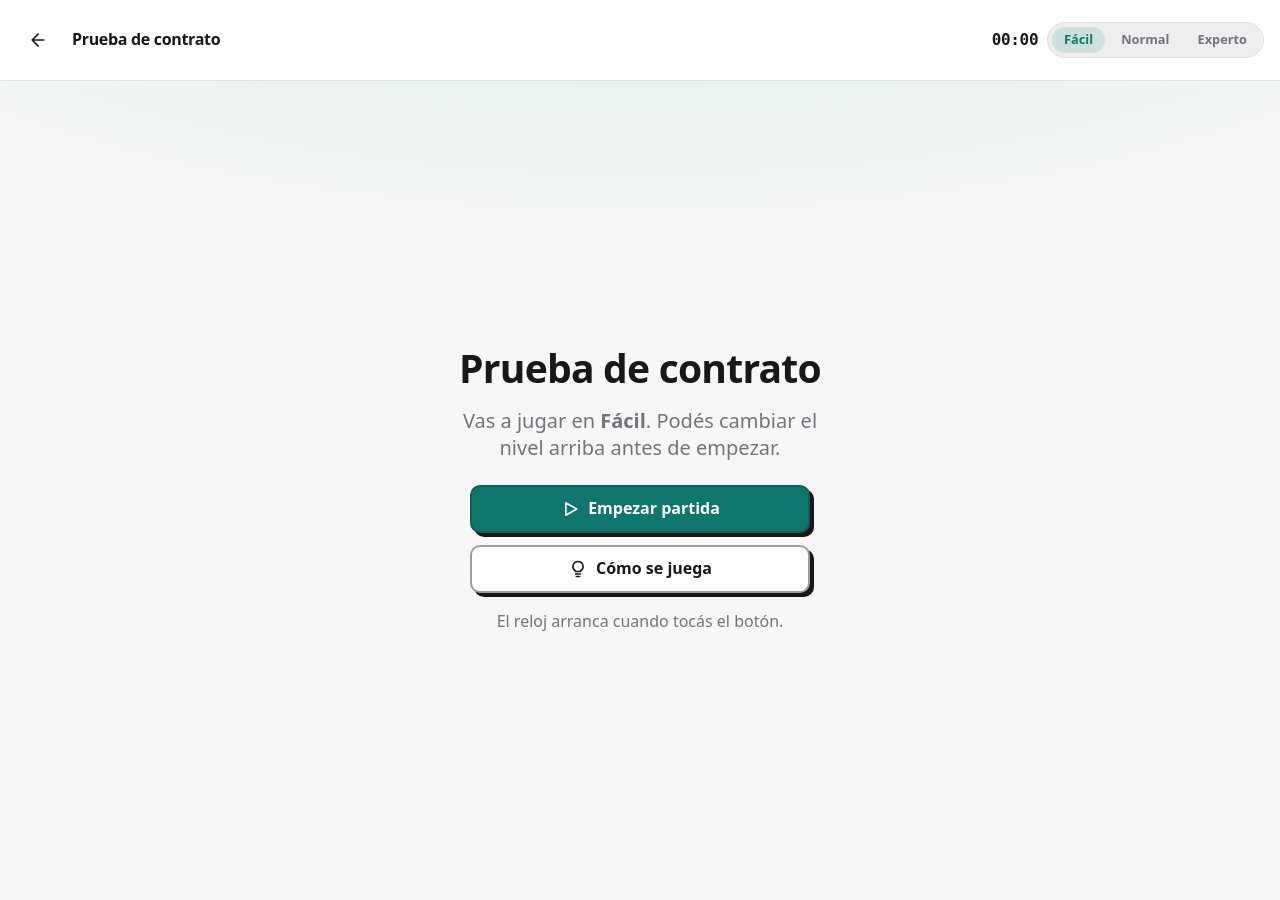
Test: changing difficulty › keeps the board when the player backs out
Click the button "Empezar partida" at [640, 509], box [470, 485, 810, 533]
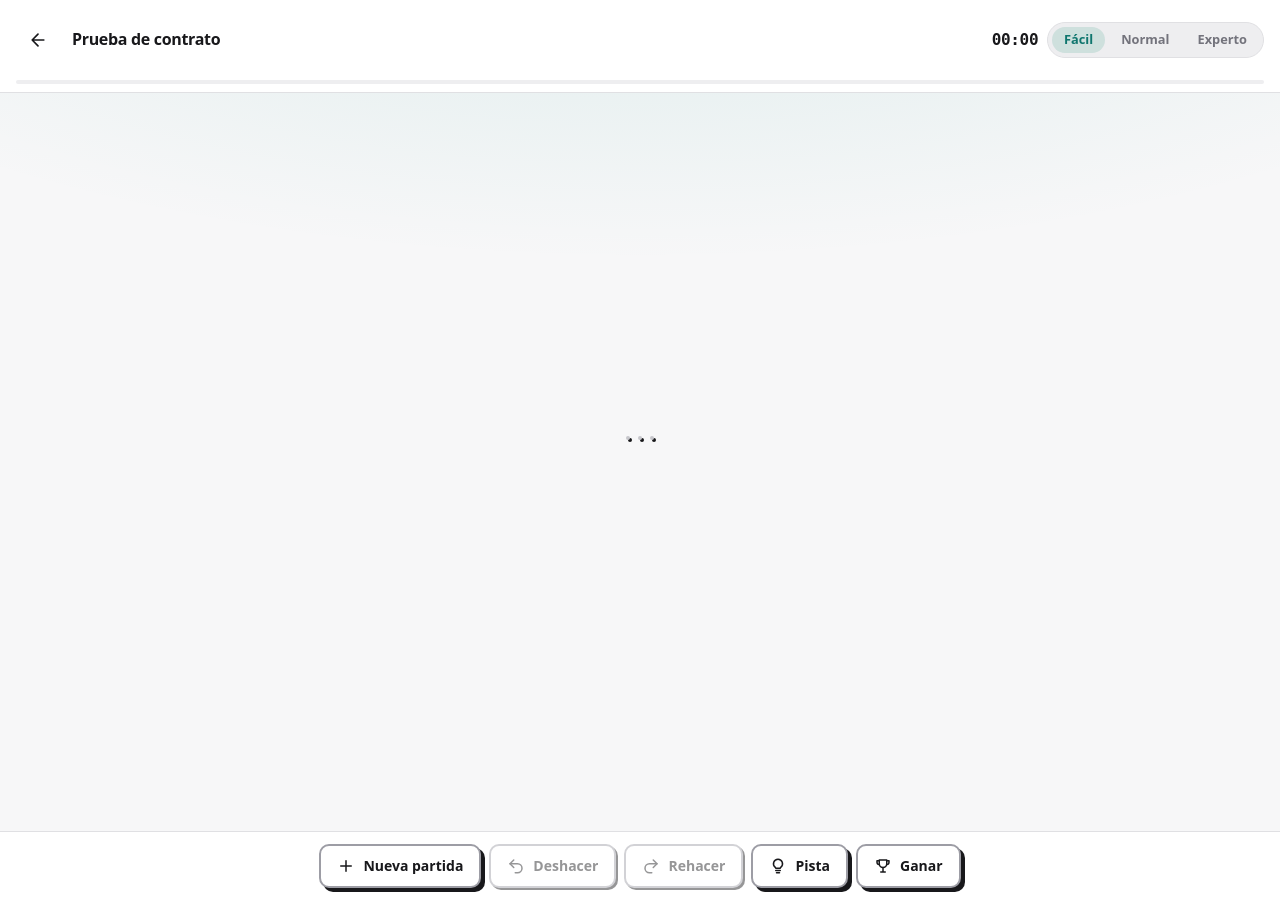
Click the button named "Casilla" at [628, 438], box [626, 436, 630, 440]
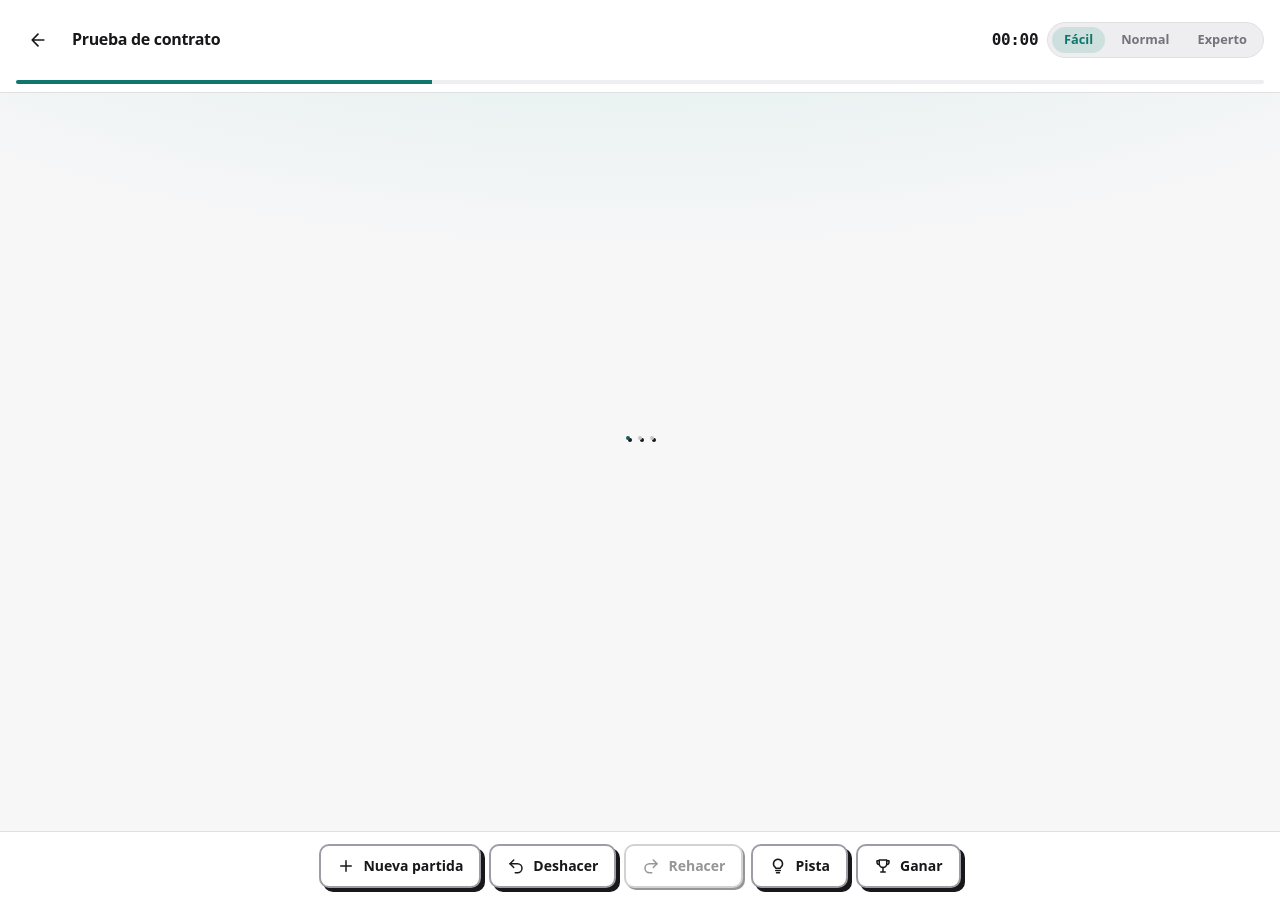
Click the radio button labelled "Experto" at [1222, 40], box [1186, 27, 1259, 53]
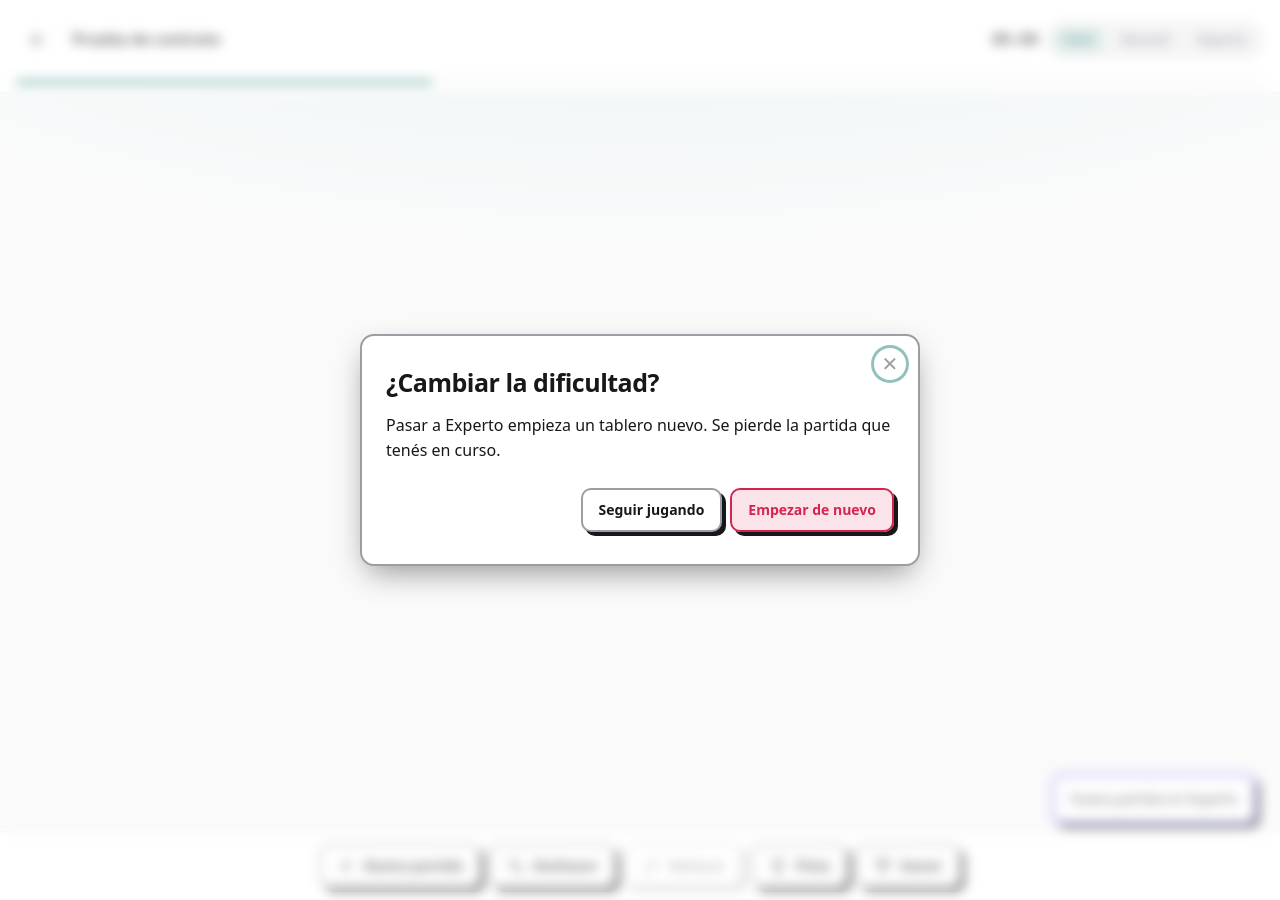
Click the button "Seguir jugando" at [651, 510], box [580, 488, 722, 532]
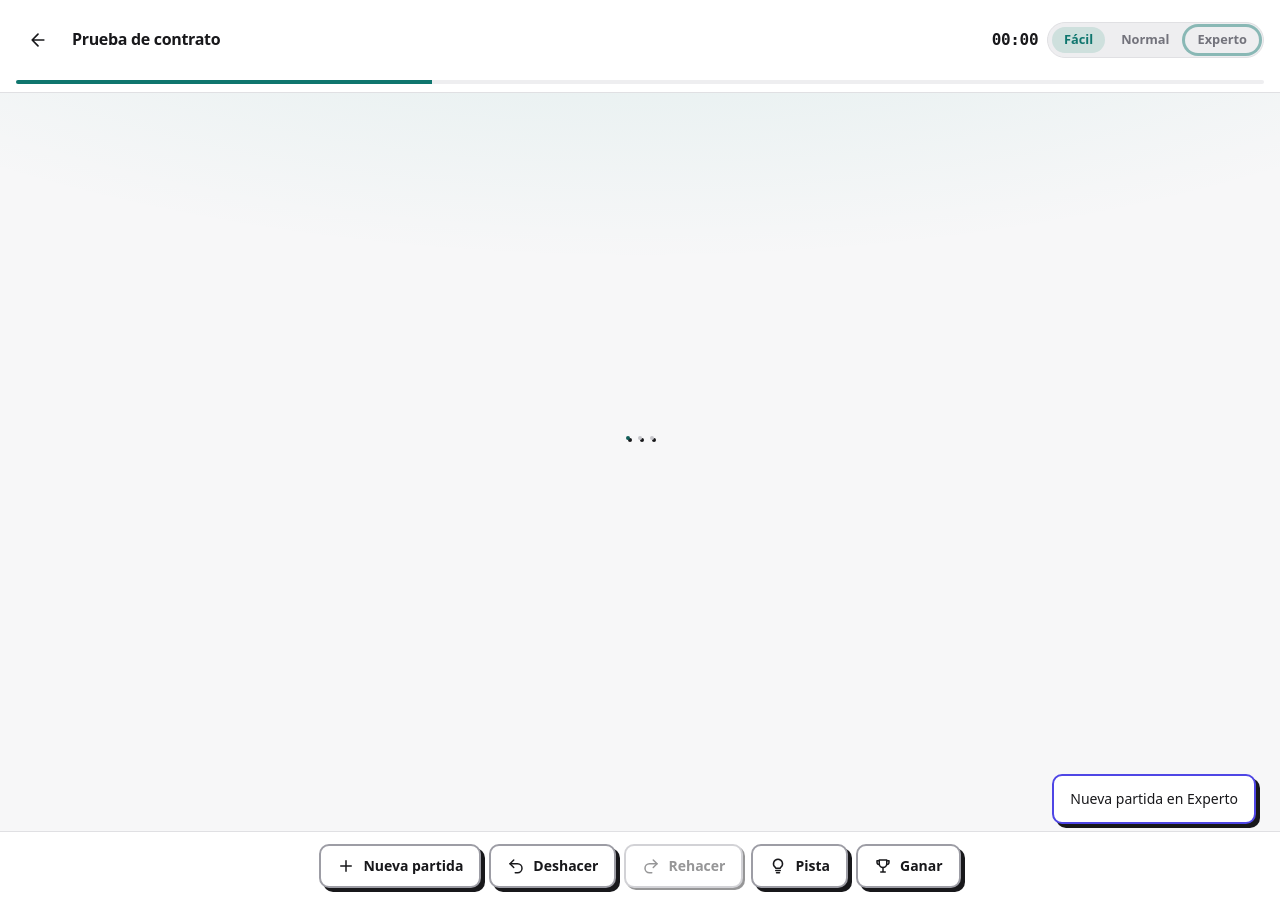
Result: the button named "Casilla 1, marcada" is shown at [626, 436, 630, 440]
Result: the heading "¿Cambiar la dificultad?" is gone
